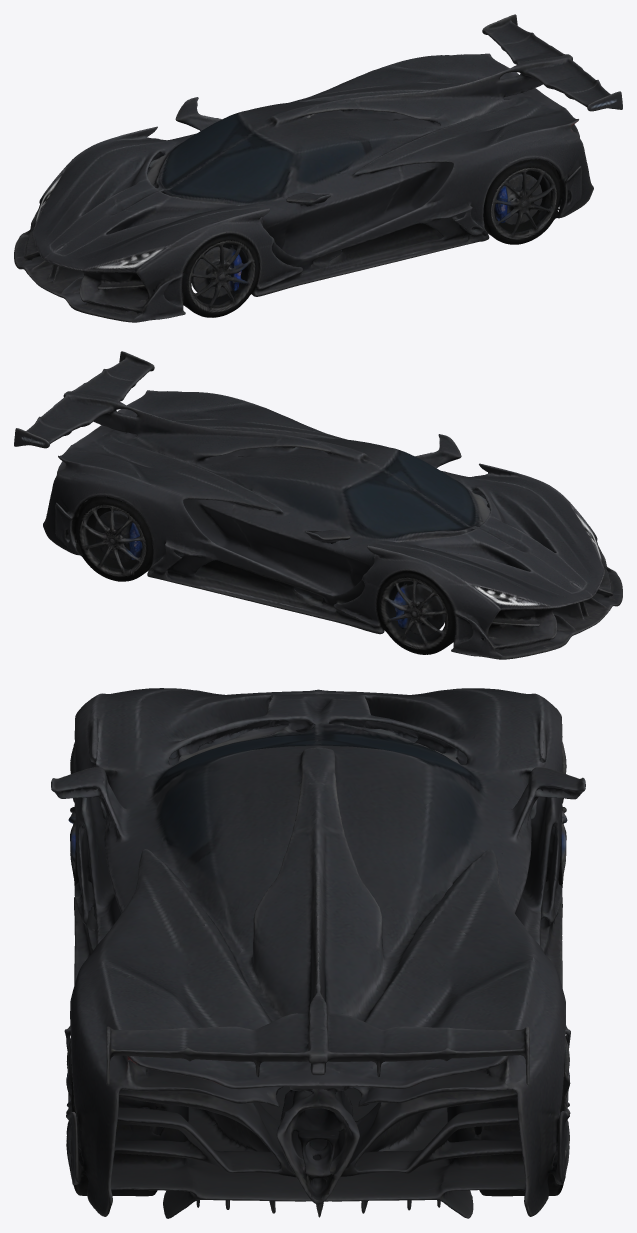
Rendered from aurora_car.glb.
3 renders of one model, top to bottom at view 1: azimuth 30°, elevation 25°; view 2: azimuth 150°, elevation 25°; view 3: azimuth 270°, elevation 25°, orthographic. The views are drawn at different scales.
Size of the model in its own units: 1.9 by 0.4455 by 0.8263.
Materials: 1 (1 with a texture image).
